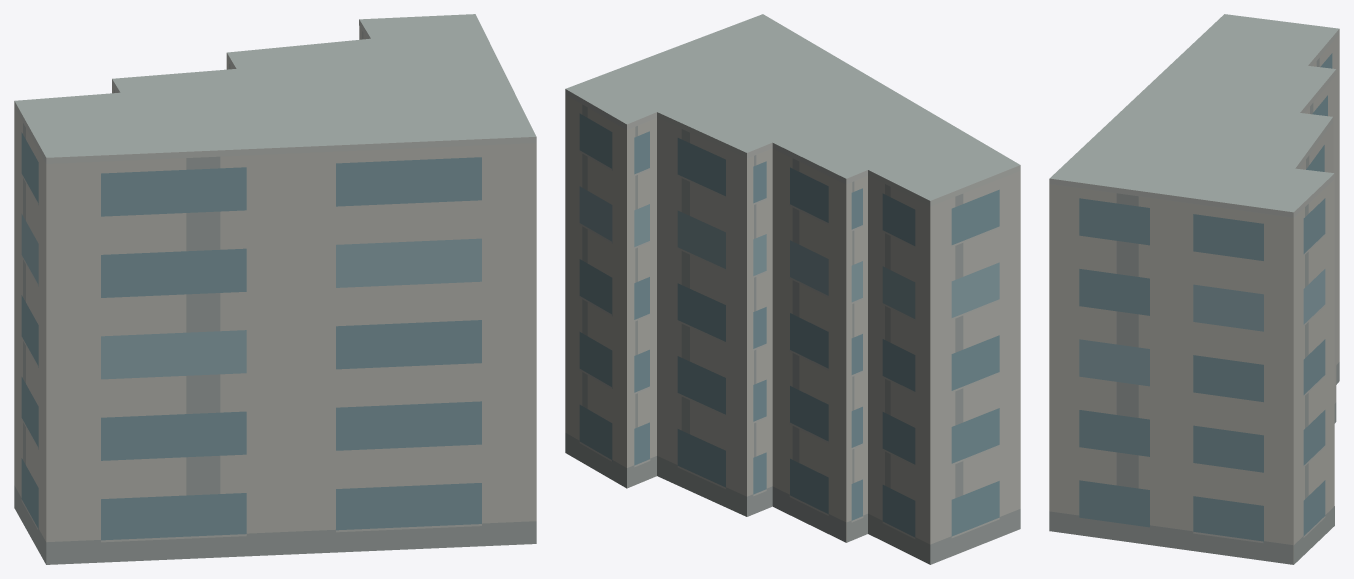
The model's file is survey-upis-32925483.glb.
3 renders of one model, left to right at view 1: azimuth 30°, elevation 25°; view 2: azimuth 150°, elevation 25°; view 3: azimuth 270°, elevation 25°, orthographic. The views are drawn at different scales.
Parts seen in each view (by area): view 1: survey-upis-32925483.tmp; view 2: survey-upis-32925483.tmp; view 3: survey-upis-32925483.tmp.
Part boxes in pixels (x1,y1,x2,y2): survey-upis-32925483.tmp: [14, 14, 536, 564]; survey-upis-32925483.tmp: [565, 14, 1020, 564]; survey-upis-32925483.tmp: [1049, 14, 1339, 564].
Size of the model in its own units: 19.01 by 15.75 by 11.75.
